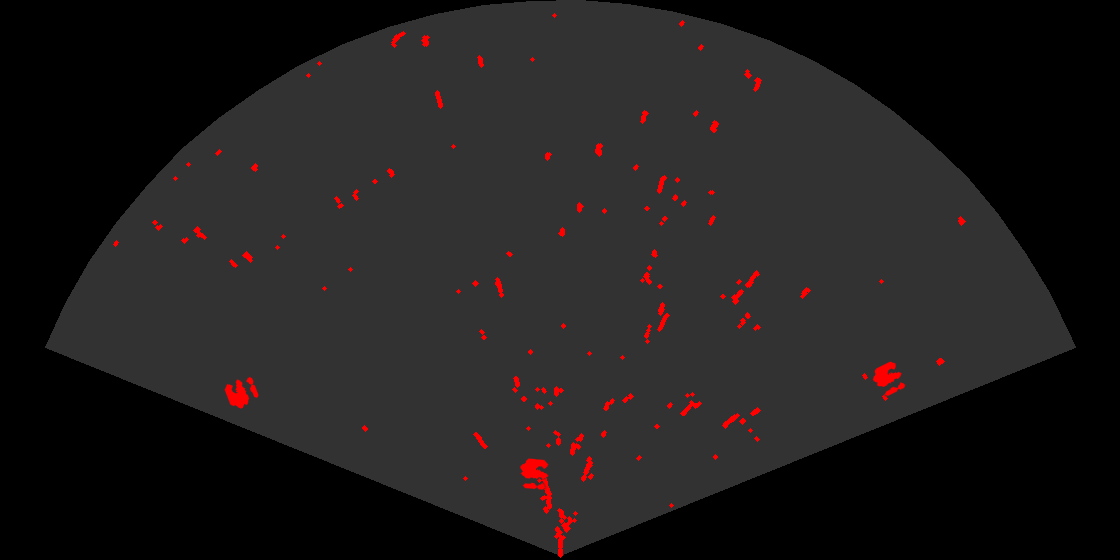ball: (871, 360, 907, 398), (223, 375, 260, 410), (519, 457, 550, 491)
